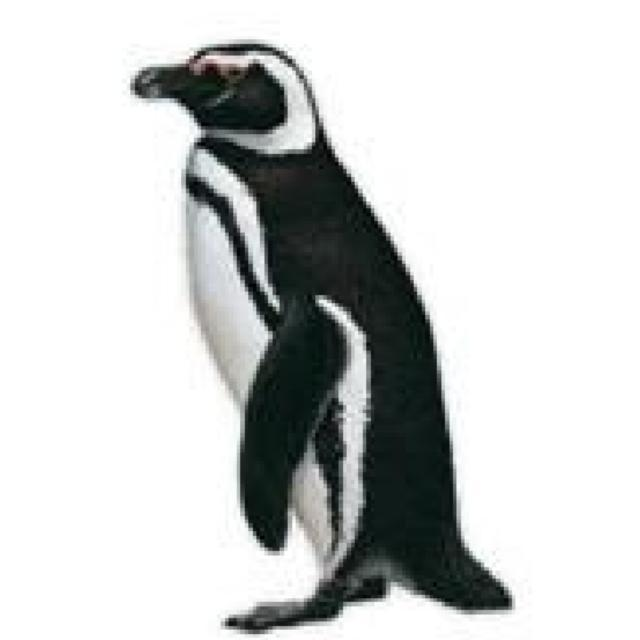penguin: (129, 41, 514, 632)
